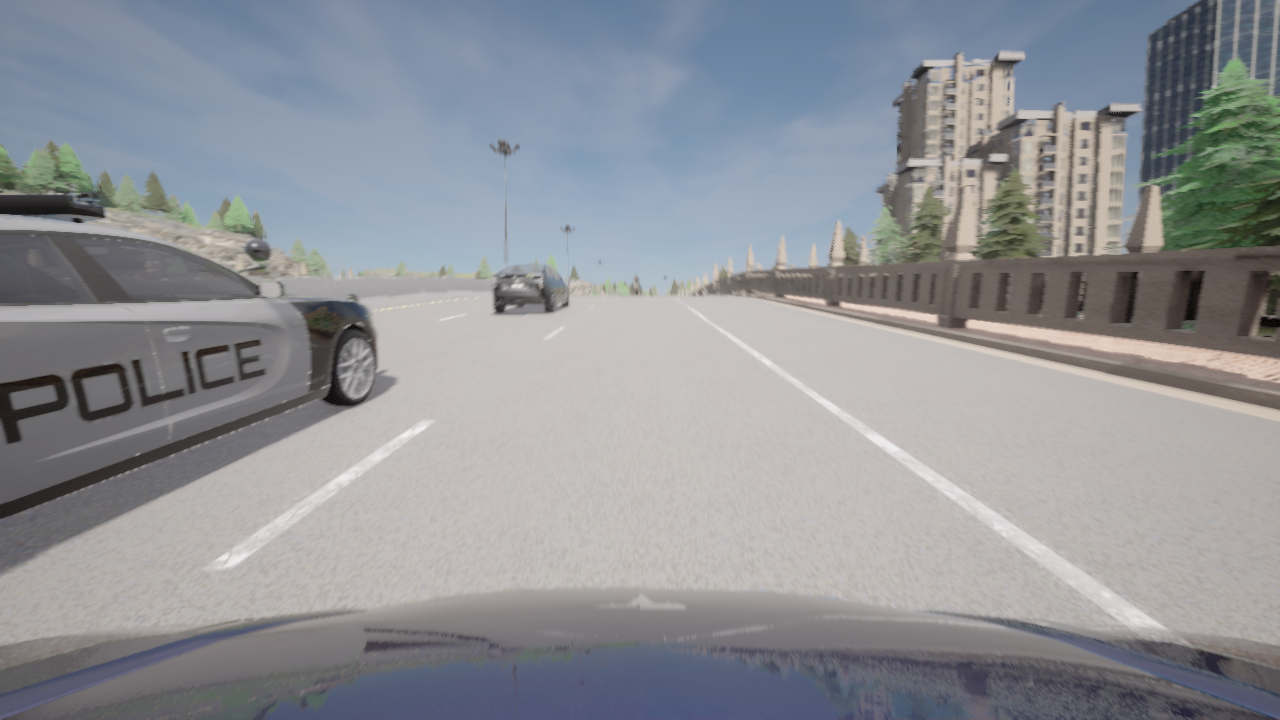cyclist: (0, 588, 1279, 719), (0, 192, 378, 520), (492, 264, 569, 313), (633, 284, 639, 295)
